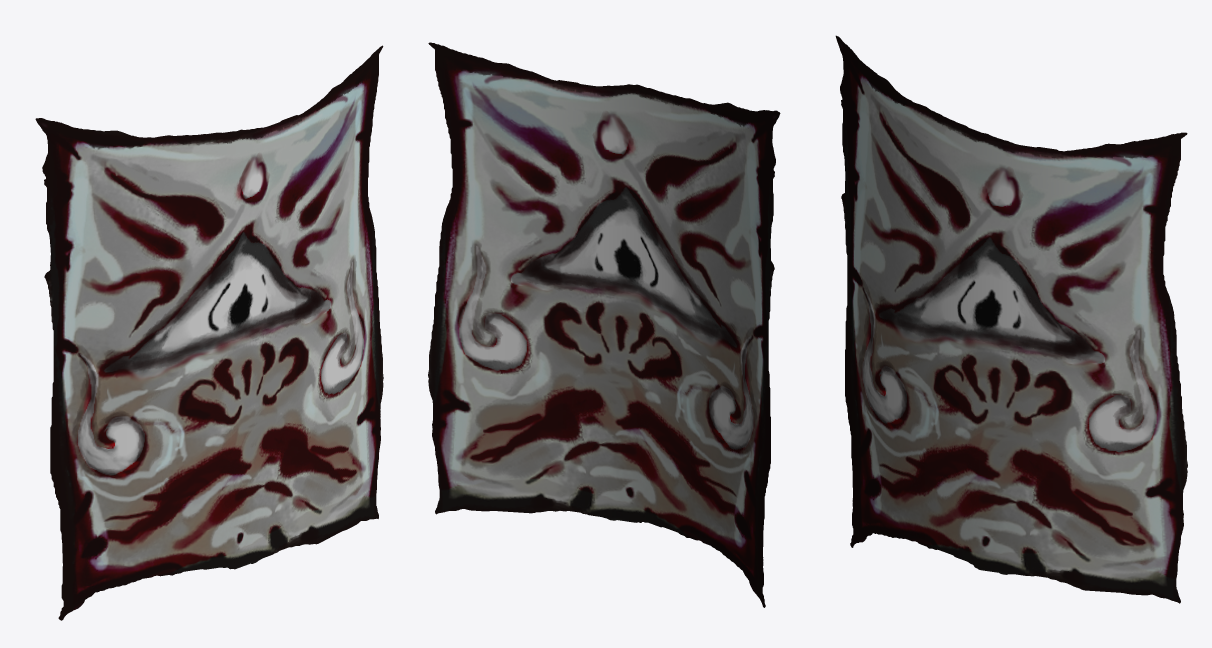
Rendered from CH_Jubokko_Mask02.FBX.
3 renders of one model, left to right at view 1: azimuth 30°, elevation 25°; view 2: azimuth 150°, elevation 25°; view 3: azimuth 330°, elevation 25°, orthographic.
Parts seen in each view (by area): view 1: CH_Jubokko_Mask02; view 2: CH_Jubokko_Mask02; view 3: CH_Jubokko_Mask02.
Boxes of the visible parts, x1=… form: CH_Jubokko_Mask02: x1=35, y1=45, x2=383, y2=620; CH_Jubokko_Mask02: x1=428, y1=42, x2=780, y2=607; CH_Jubokko_Mask02: x1=835, y1=35, x2=1187, y2=603.
Size of the model in its own units: 154 by 207 by 22.62.
